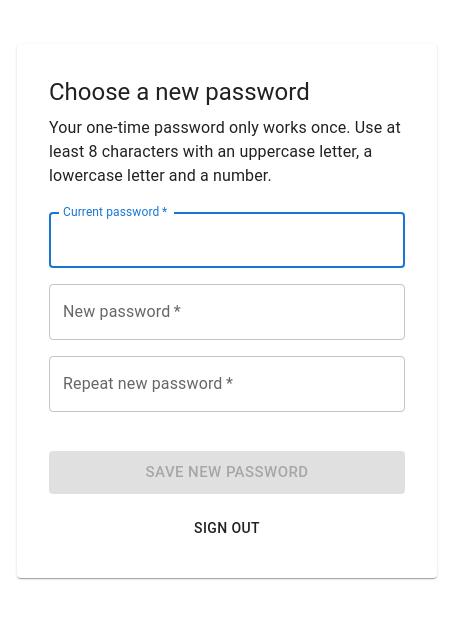
Test case: ChangePasswordPage › shows the server sentence and stays on the page when the current password is wrong
Type "wrong" into the password field labelled "Current password *" at (227, 240), box [49,212,405,268]
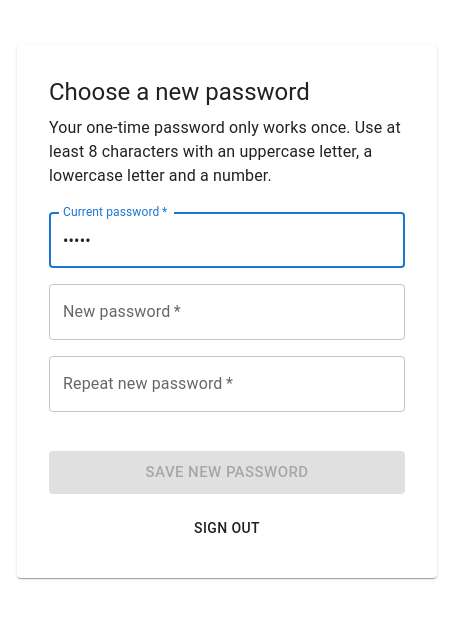
Type "Brand-New-9" into the password field labelled "New password *" at (227, 312), box [49,284,405,340]
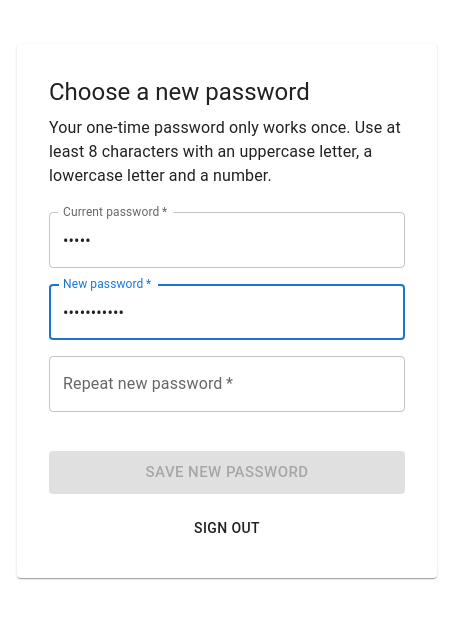
Type "Brand-New-9" into the password field labelled "Repeat new password *" at (227, 384), box [49,356,405,412]
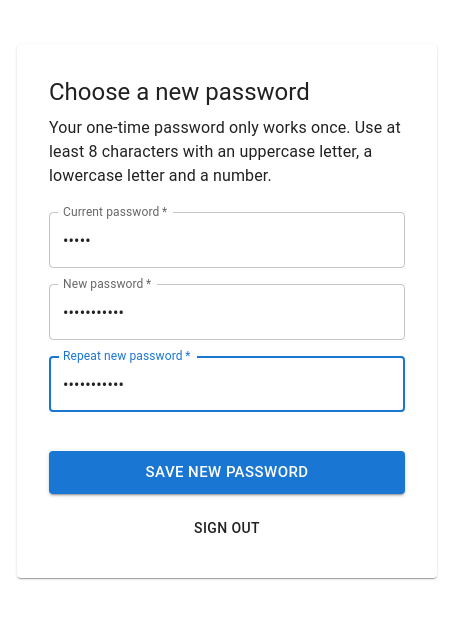
Click the button "Save new password" at (227, 472), box [49,451,405,494]
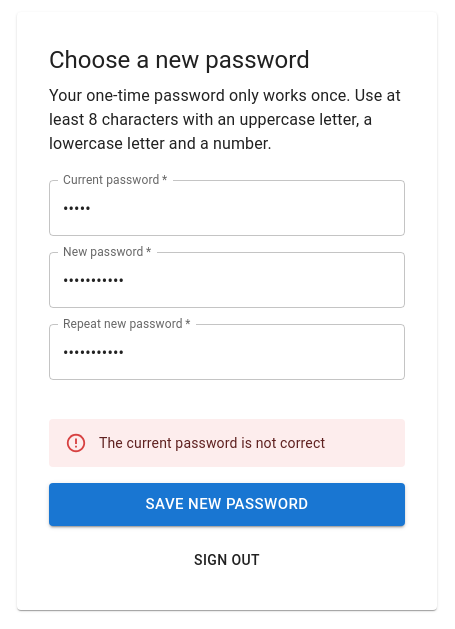
Now the button "Save new password" is enabled, box [49,483,405,526]
Now the message reads "The current password is not correct", box [99,435,325,451]
